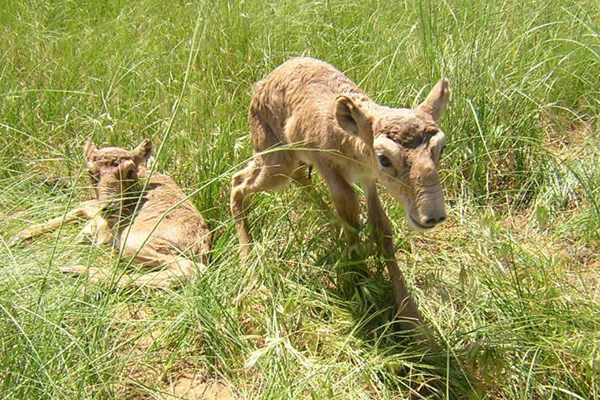saiga: (228, 52, 454, 325), (12, 144, 219, 302)
